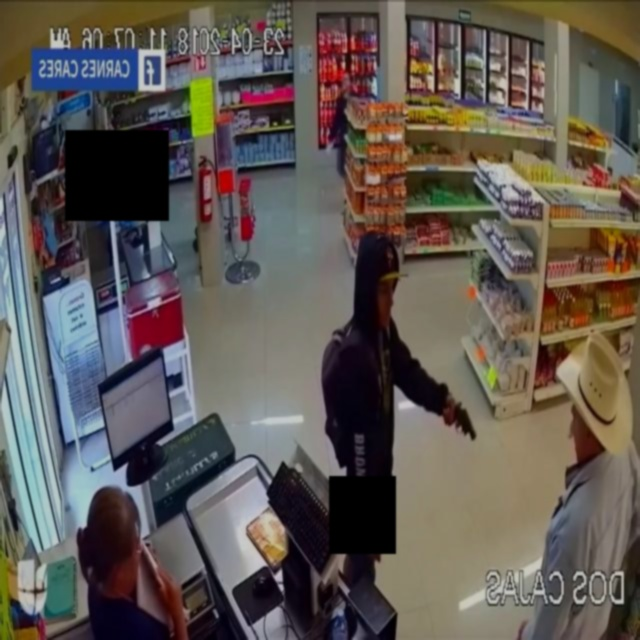gun: (447, 379, 480, 460)
